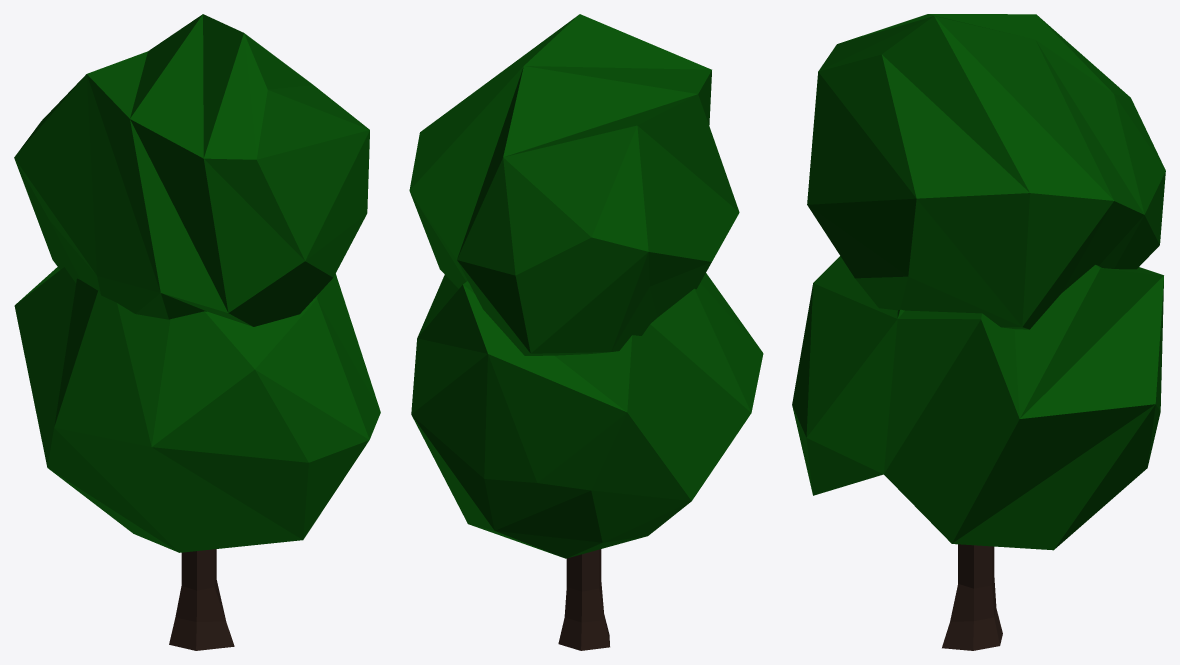
File: Tree12.fbx
The picture shows the model from 3 angles, left to right: view 1: azimuth 30°, elevation 25°; view 2: azimuth 150°, elevation 25°; view 3: azimuth 270°, elevation 25°; orthographic projection. The views are drawn at different scales.
Visible parts, largest first — view 1: Tree06; view 2: Tree06; view 3: Tree06.
Part boxes in pixels (x1,y1,x2,y2): Tree06: [14, 14, 380, 650]; Tree06: [409, 14, 763, 650]; Tree06: [792, 14, 1165, 650].
Bounding box in the file's own units: 0.9318 × 1.79 × 0.954.
